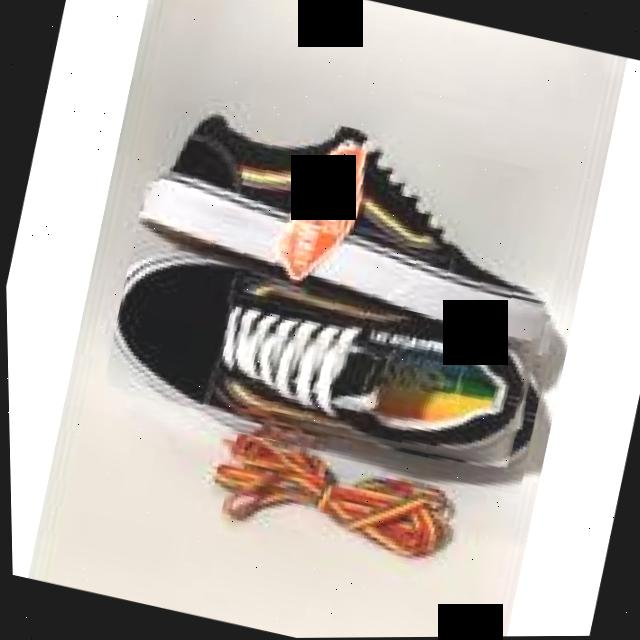shoe: (95, 84, 590, 488), (94, 234, 554, 498)
